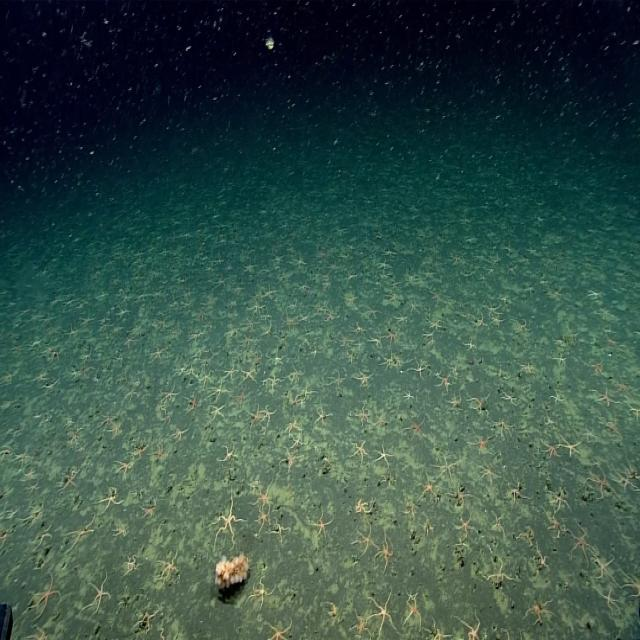brittle-stars: (204, 485, 250, 556), (75, 560, 115, 631), (366, 574, 402, 640), (56, 506, 100, 559), (562, 522, 602, 570), (242, 568, 283, 614), (479, 553, 527, 592), (26, 570, 62, 618), (152, 540, 184, 592), (428, 443, 466, 486), (127, 596, 164, 640), (581, 464, 619, 506), (518, 592, 561, 629), (372, 526, 401, 576), (303, 503, 338, 544), (349, 518, 380, 563), (401, 404, 434, 446), (447, 509, 484, 546), (247, 468, 279, 510), (273, 444, 310, 480), (500, 470, 534, 509), (453, 605, 489, 640), (94, 481, 128, 518), (443, 477, 479, 511), (591, 549, 625, 585), (345, 602, 377, 640), (16, 494, 49, 530), (582, 381, 619, 412), (56, 457, 83, 499), (138, 487, 167, 526), (26, 520, 58, 555), (370, 435, 399, 472), (200, 398, 230, 433), (619, 558, 640, 608), (610, 462, 640, 497), (260, 615, 301, 640), (401, 595, 426, 635), (348, 429, 373, 469), (594, 586, 625, 618), (557, 427, 587, 460), (485, 503, 513, 538), (250, 501, 276, 538), (415, 470, 439, 510), (596, 411, 625, 444), (466, 388, 494, 422), (346, 490, 380, 517), (168, 416, 194, 451), (580, 351, 610, 381), (546, 484, 574, 516), (215, 435, 240, 470), (468, 429, 498, 458), (120, 546, 144, 582), (107, 455, 138, 482), (268, 514, 294, 546), (203, 378, 233, 405), (281, 359, 311, 386), (400, 491, 423, 526), (608, 374, 639, 399), (145, 341, 171, 370), (310, 401, 336, 430), (542, 513, 568, 542), (351, 364, 376, 394), (539, 436, 564, 466), (350, 397, 374, 428), (430, 371, 457, 398), (322, 368, 348, 396), (121, 380, 145, 410), (243, 399, 265, 431), (298, 374, 320, 406), (277, 307, 302, 335), (148, 438, 170, 469), (532, 542, 552, 576), (477, 460, 504, 485), (444, 389, 468, 417), (340, 284, 361, 316), (11, 442, 34, 471), (257, 371, 286, 394), (490, 417, 519, 440), (371, 404, 393, 434), (27, 614, 52, 640), (407, 357, 433, 382), (365, 328, 389, 355), (515, 521, 542, 545), (94, 406, 117, 434), (259, 398, 279, 430), (334, 324, 356, 353), (481, 295, 510, 317), (259, 274, 282, 301), (323, 595, 343, 626), (39, 374, 64, 398), (512, 315, 537, 339), (362, 301, 385, 327), (159, 380, 186, 402), (182, 390, 204, 417), (92, 311, 114, 338), (470, 305, 491, 333), (104, 417, 129, 440), (496, 384, 520, 407), (62, 425, 84, 450), (246, 295, 268, 320), (197, 365, 218, 391), (236, 365, 262, 386), (170, 352, 190, 379), (231, 384, 251, 411), (129, 435, 148, 463), (183, 321, 206, 344), (287, 427, 307, 453), (282, 411, 302, 437), (427, 620, 453, 640), (120, 329, 142, 352), (398, 384, 420, 406), (107, 521, 130, 542), (518, 356, 539, 379), (498, 624, 528, 640), (548, 382, 568, 406), (370, 255, 394, 275), (271, 345, 290, 370), (0, 522, 18, 548), (384, 325, 405, 347), (378, 468, 398, 491), (379, 349, 396, 376), (239, 328, 258, 352), (188, 342, 214, 359), (425, 311, 446, 332), (76, 309, 98, 329), (402, 582, 422, 604), (460, 334, 480, 356), (22, 475, 40, 499), (551, 348, 570, 370), (392, 307, 411, 329), (156, 624, 182, 640), (43, 343, 61, 366), (185, 358, 200, 385), (20, 465, 40, 485), (221, 360, 241, 380), (80, 342, 98, 364), (79, 357, 95, 381), (343, 347, 361, 368), (490, 310, 507, 332), (286, 389, 304, 409), (153, 396, 172, 414), (310, 298, 328, 317), (0, 440, 12, 468), (394, 347, 408, 371), (421, 326, 436, 348), (542, 410, 560, 428), (160, 408, 174, 431), (626, 401, 640, 424), (349, 321, 368, 337), (0, 506, 20, 521), (66, 363, 81, 382), (198, 356, 218, 370), (251, 348, 265, 368), (324, 305, 337, 326), (63, 412, 76, 429)
